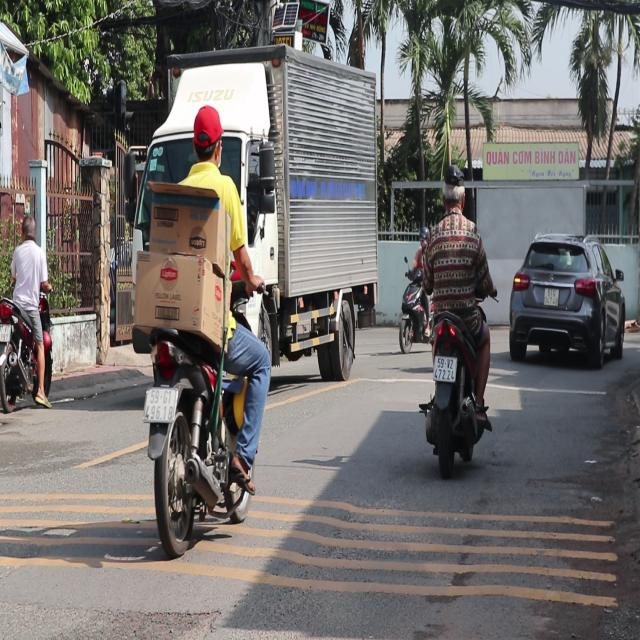licenseplate: (125, 101, 272, 554), (419, 165, 494, 472), (0, 212, 55, 413)
motorcyclist: (188, 102, 224, 166), (439, 162, 466, 214), (20, 214, 37, 242)
nohelmet: (144, 388, 178, 422), (433, 356, 456, 381), (0, 323, 10, 340)
